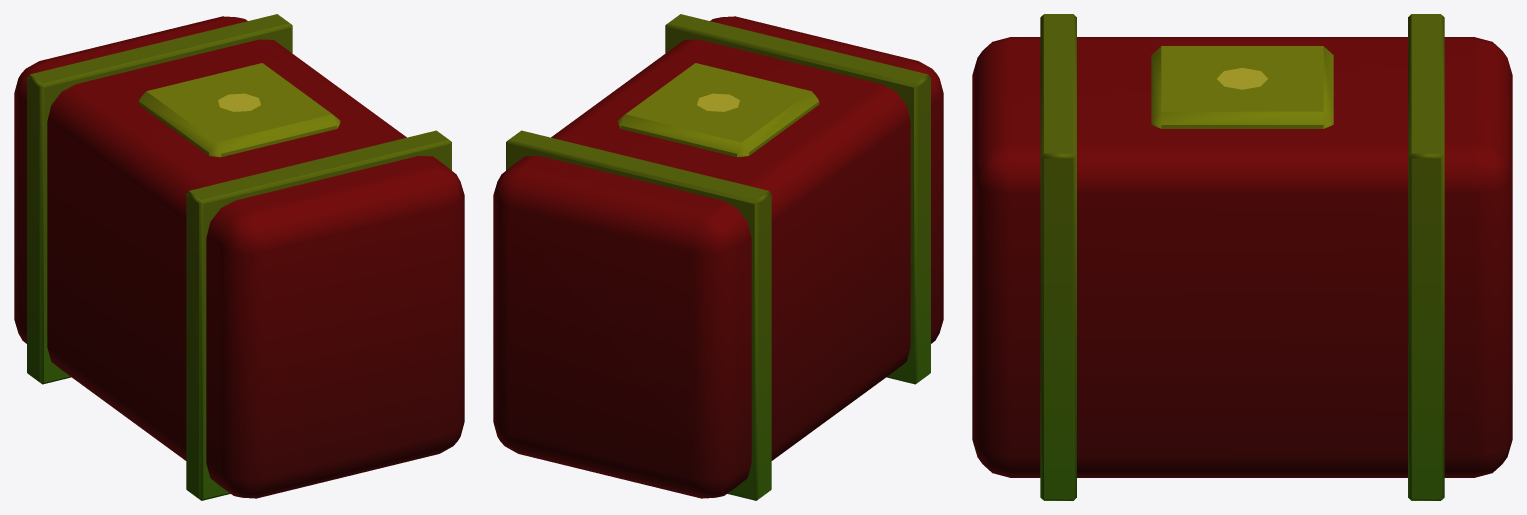
The model's file is RCLModule_salvage_hauler_hazard_industrial.fbx.
3 views of the same model, side by side, from view 1: azimuth 30°, elevation 25°; view 2: azimuth 150°, elevation 25°; view 3: azimuth 270°, elevation 25° (orthographic). The views are drawn at different scales.
Visible parts, largest first — view 1: RCLModule_salvage_hauler_hazard_industrial_Batch_RCLModuleMa (×3); view 2: RCLModule_salvage_hauler_hazard_industrial_Batch_RCLModuleMa (×3); view 3: RCLModule_salvage_hauler_hazard_industrial_Batch_RCLModuleMa (×3).
Boxes of the visible parts, x1,y1,x2,y2 form: RCLModule_salvage_hauler_hazard_industrial_Batch_RCLModuleMa (×3): [14, 14, 464, 500]; RCLModule_salvage_hauler_hazard_industrial_Batch_RCLModuleMa (×3): [493, 14, 943, 500]; RCLModule_salvage_hauler_hazard_industrial_Batch_RCLModuleMa (×3): [972, 14, 1512, 500].
Bounding box in the file's own units: 46.2 × 53.25 × 74.
